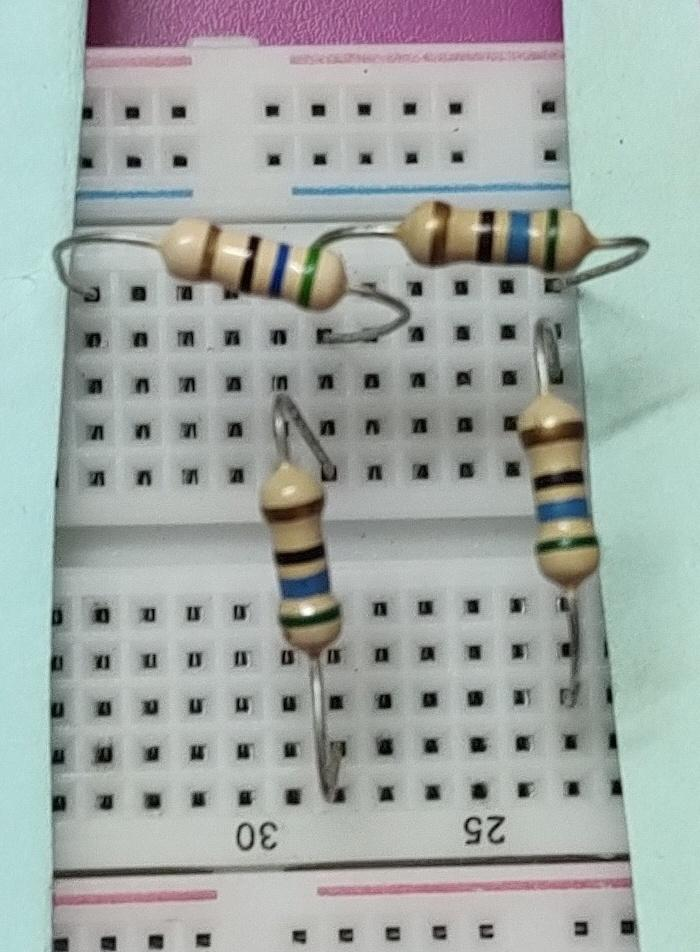resistor: (251, 451, 355, 672), (389, 185, 601, 292), (157, 211, 350, 327), (517, 381, 613, 594)
